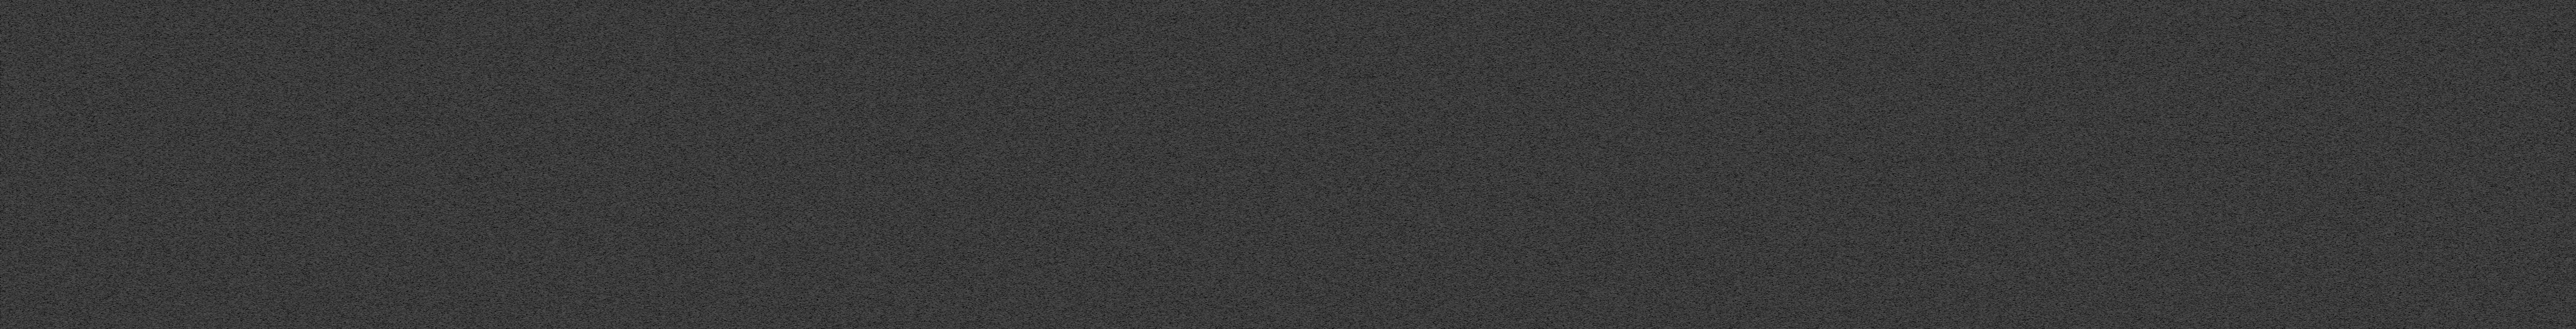wv_am: (1615, 0, 1618, 329), (10, 0, 13, 329), (118, 77, 122, 220), (118, 0, 122, 38), (118, 276, 122, 288), (118, 64, 122, 76), (118, 265, 122, 275), (118, 222, 122, 232), (118, 258, 122, 265), (118, 319, 122, 324), (118, 313, 122, 317), (118, 308, 122, 313), (118, 301, 122, 306), (118, 294, 122, 299), (118, 290, 122, 294), (118, 252, 122, 257), (118, 247, 122, 252), (118, 240, 122, 245), (118, 234, 122, 239), (118, 59, 122, 64), (118, 46, 122, 51), (118, 39, 122, 44), (118, 326, 122, 329), (118, 53, 122, 56)
wv_lsb: (1819, 18, 1824, 72), (1819, 133, 1824, 184), (1194, 207, 1198, 283), (1819, 219, 1822, 276), (1194, 20, 1198, 71), (1194, 97, 1198, 146), (1194, 156, 1198, 202), (1819, 74, 1822, 109), (1194, 299, 1198, 329), (1194, 72, 1198, 95), (1819, 276, 1822, 296), (1819, 298, 1822, 314), (1819, 202, 1822, 219), (1819, 316, 1822, 329), (1819, 184, 1822, 196), (1820, 2, 1822, 18), (1194, 10, 1198, 18), (1194, 2, 1198, 8), (1194, 148, 1198, 155), (1819, 196, 1822, 201), (1194, 283, 1198, 286), (1194, 202, 1198, 206), (1820, 125, 1822, 132), (1820, 112, 1822, 117), (1820, 120, 1822, 123), (1820, 109, 1822, 112), (1820, 118, 1822, 120)
wv_usb: (261, 49, 264, 77), (261, 220, 264, 240), (261, 242, 264, 257), (261, 283, 264, 293), (261, 173, 264, 183), (261, 133, 264, 143), (261, 94, 264, 104), (261, 294, 264, 303), (261, 158, 264, 166), (261, 23, 264, 31), (261, 2, 264, 10), (261, 151, 264, 158), (261, 110, 264, 117), (261, 77, 264, 84), (261, 38, 264, 44), (261, 168, 264, 173), (261, 104, 264, 109), (261, 128, 264, 132), (261, 123, 264, 127), (261, 118, 264, 122), (261, 84, 264, 87), (261, 46, 264, 49), (261, 33, 264, 36), (263, 207, 264, 212), (263, 304, 264, 308), (261, 260, 264, 262), (263, 257, 264, 260), (263, 202, 264, 206), (263, 196, 264, 199), (263, 192, 264, 196), (261, 148, 264, 150), (261, 89, 264, 90), (263, 12, 264, 15), (263, 280, 264, 281), (263, 275, 264, 276), (263, 273, 264, 275), (263, 270, 264, 271), (263, 265, 264, 266), (263, 184, 264, 186), (263, 145, 264, 146)
wv_wbfm: (427, 0, 467, 329)
